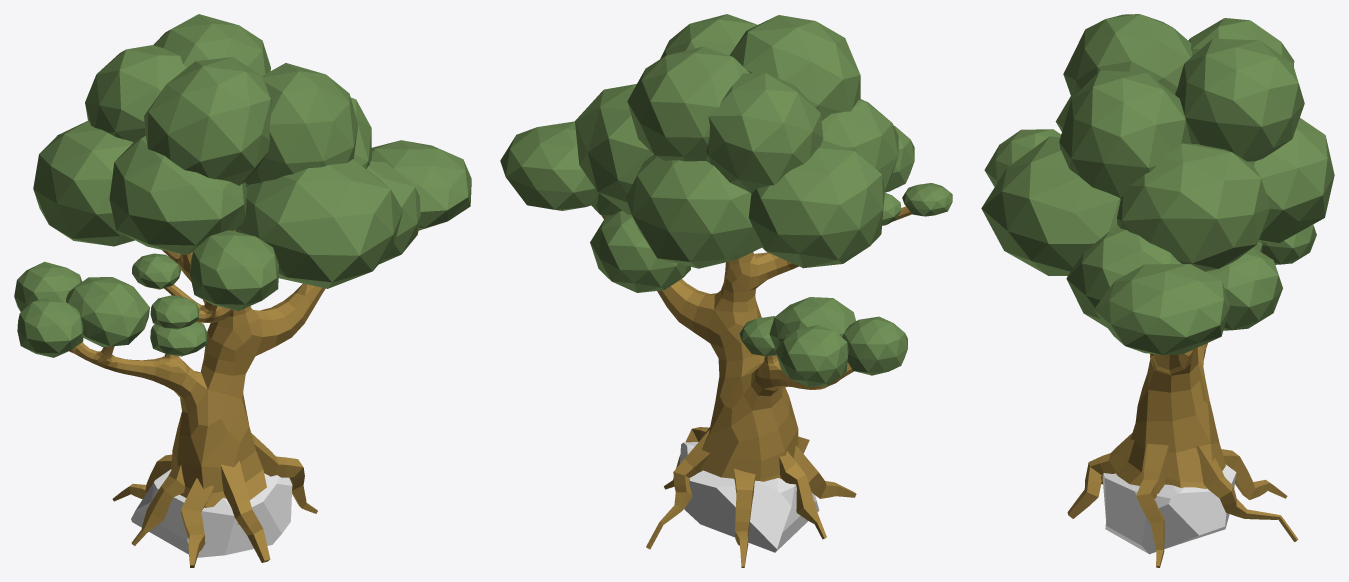
The model's file is MagicTree.fbx.
3 renders of one model, left to right at view 1: azimuth 30°, elevation 25°; view 2: azimuth 150°, elevation 25°; view 3: azimuth 270°, elevation 25°, orthographic. The views are drawn at different scales.
Visible parts, largest first — view 1: MagicTree; view 2: MagicTree; view 3: MagicTree.
Boxes of the visible parts, x1,y1,x2,y2 form: MagicTree: (14, 14, 471, 567); MagicTree: (500, 14, 952, 567); MagicTree: (981, 14, 1334, 567).
Bounding box in the file's own units: 3519 × 3927 × 2532.
